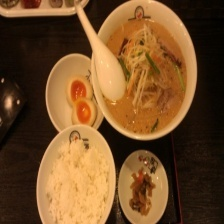rice: (39, 138, 112, 224)
